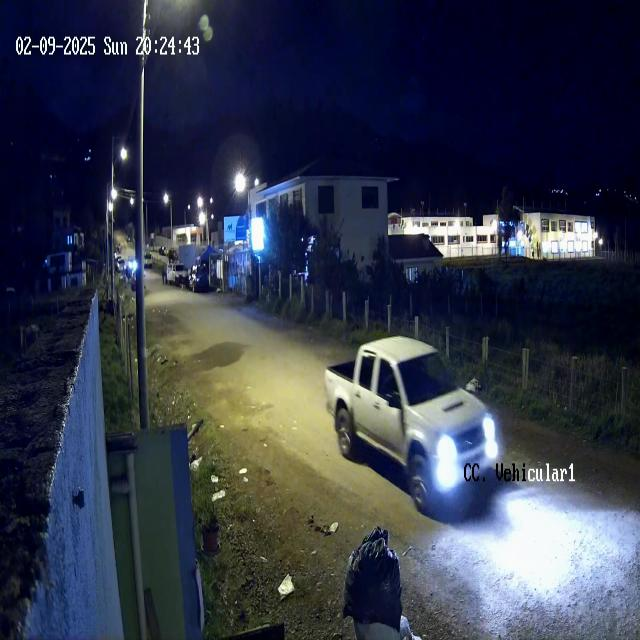CMT: (323, 335, 497, 515)
